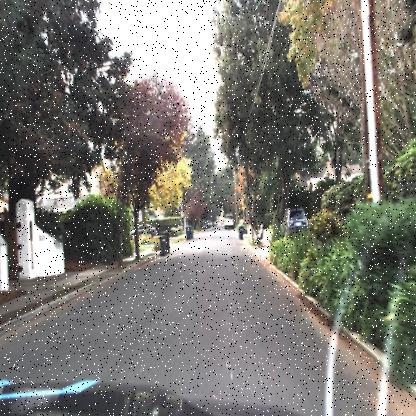car: (278, 198, 314, 247), (127, 217, 161, 245), (222, 210, 238, 234), (201, 219, 214, 233)
